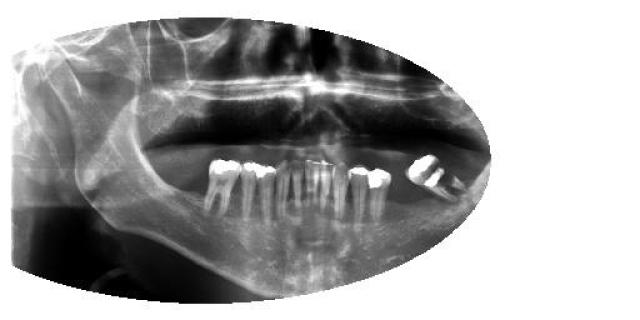Cavity: (408, 152, 468, 202)
Fillings: (205, 156, 240, 215), (369, 166, 391, 229), (349, 164, 370, 228), (239, 161, 260, 220), (259, 165, 275, 223)
Restorations: (407, 152, 468, 202)
